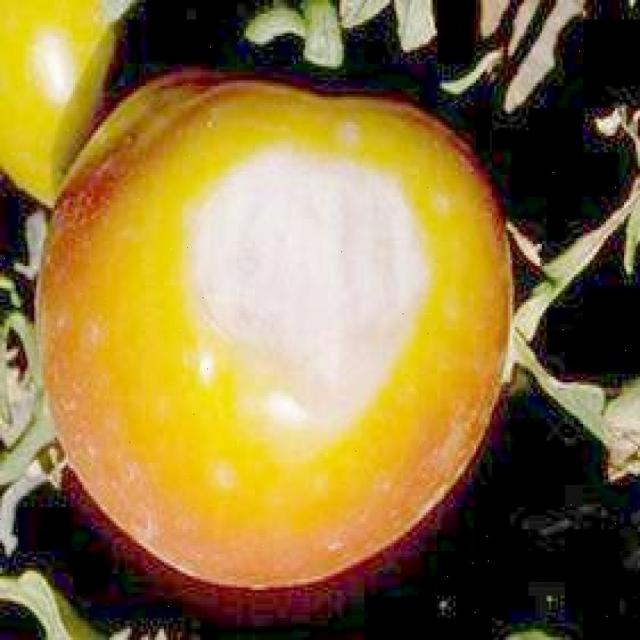Sunscald Fruit: (93, 90, 299, 305)
